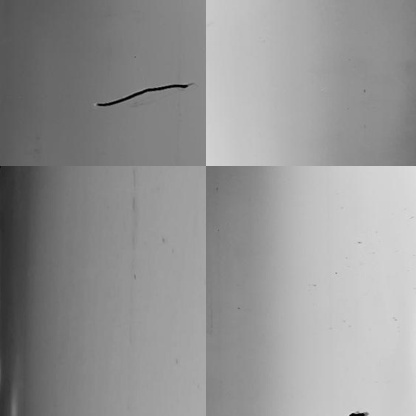fengxi: (87, 82, 197, 108), (349, 407, 369, 416)
